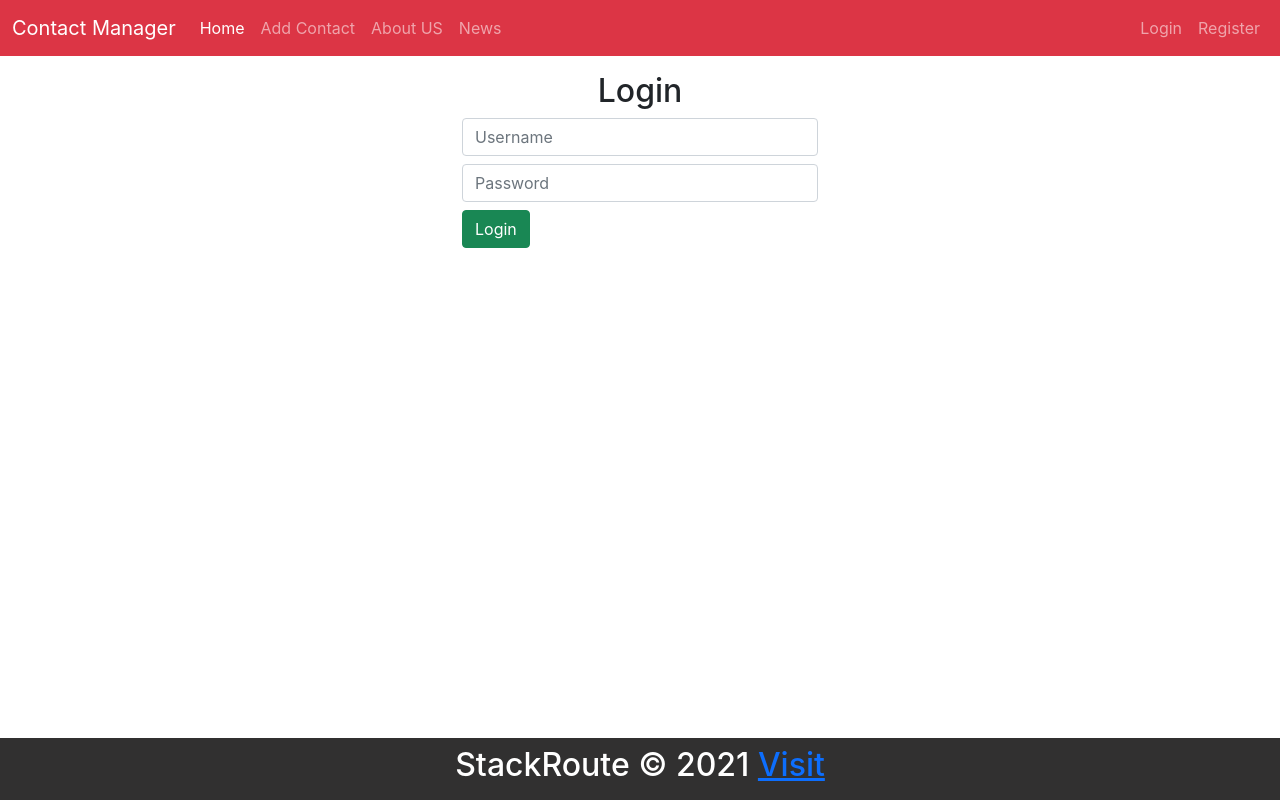
Test: Contact Manager E2E test cases › Should check for correct credentials
This screenshot has width=1280, height=800.
Type "admin" into the field with id "username".
click(640, 137); type("admin")  # box 462,118 -> 818,156
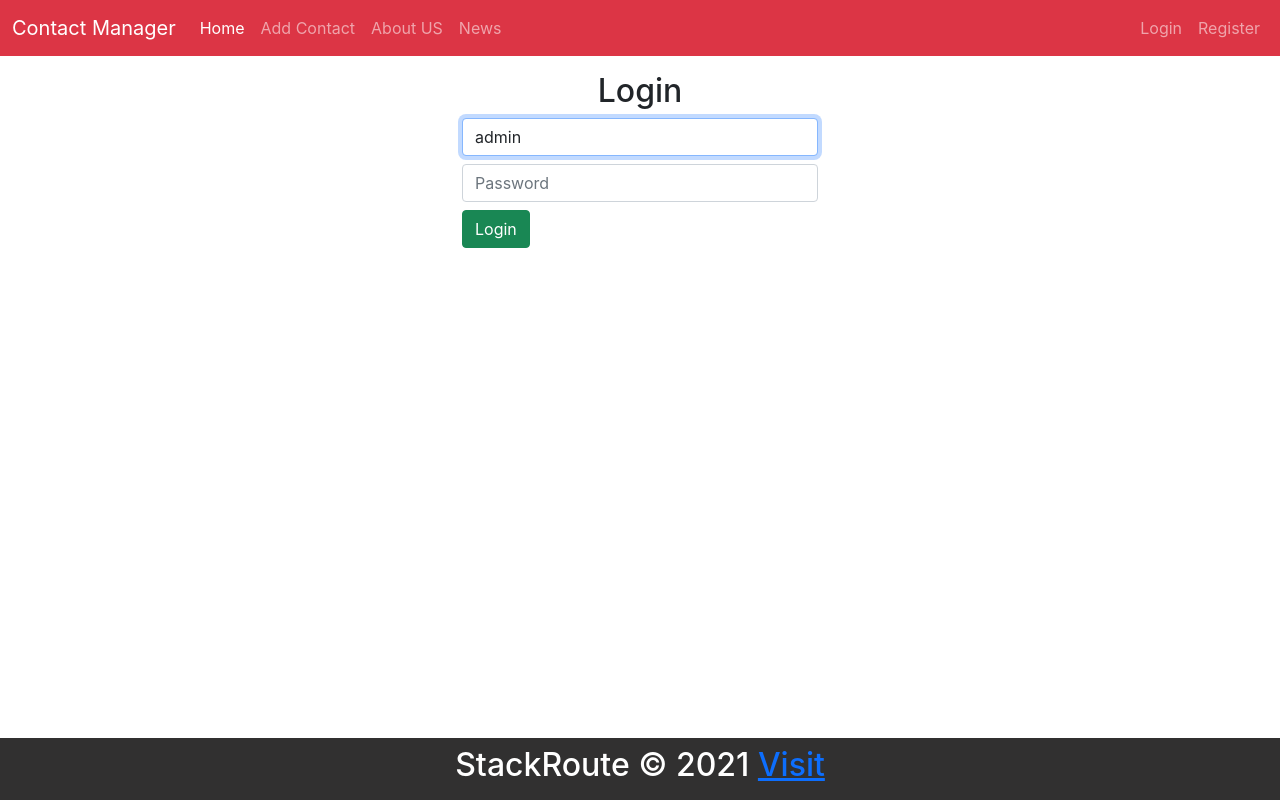
Type "password" into the password field with placeholder "Password".
click(640, 183); type("password")  # box 462,164 -> 818,202
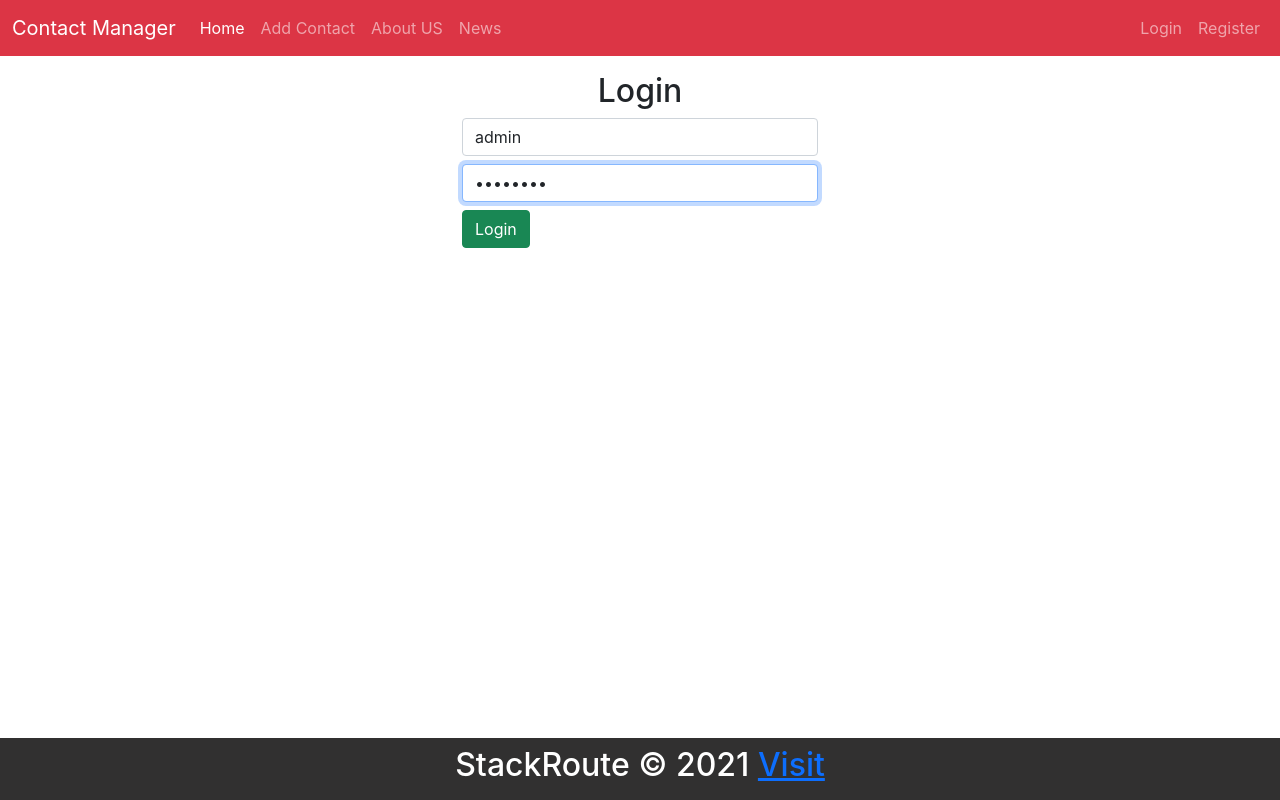
Click the button with id "btnLogin".
click(496, 229)  # box 462,210 -> 530,248
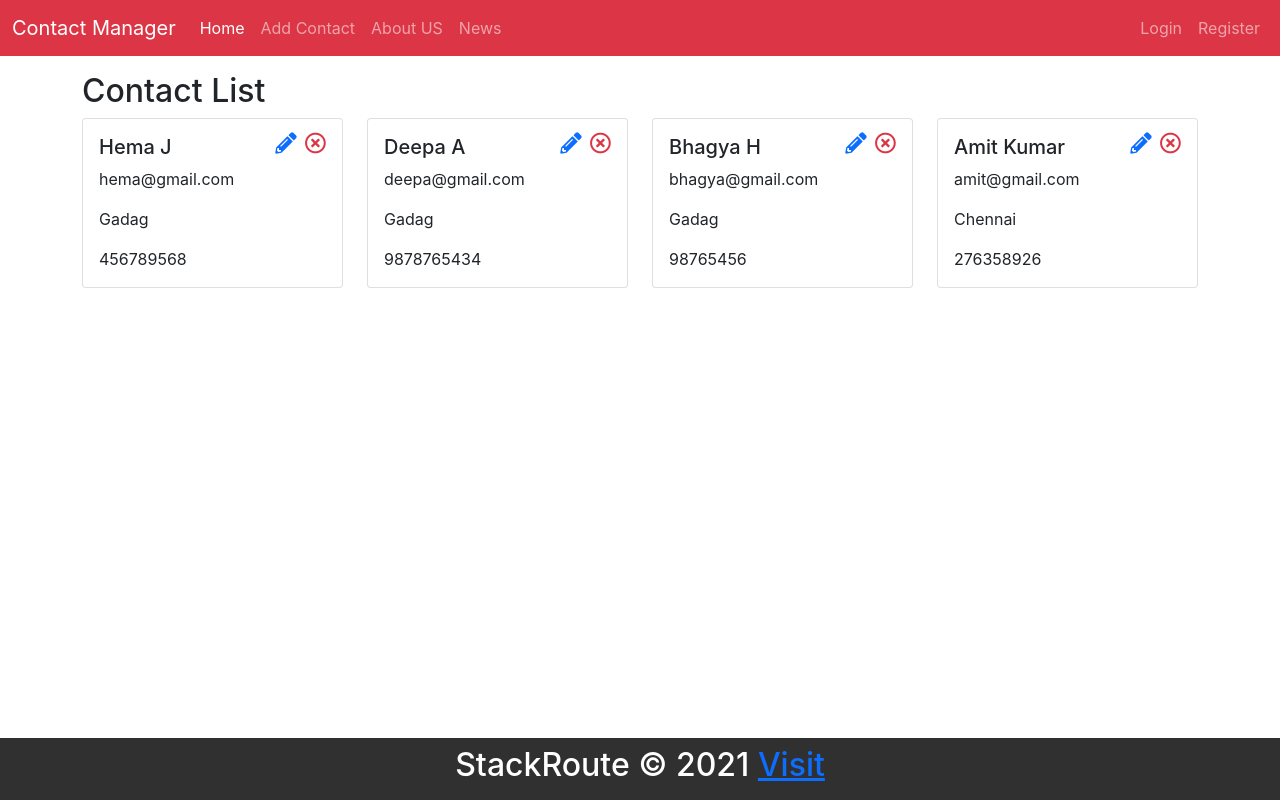
Expected: the heading with id "mainheading" reads "Contact List", 82,71 -> 265,110
